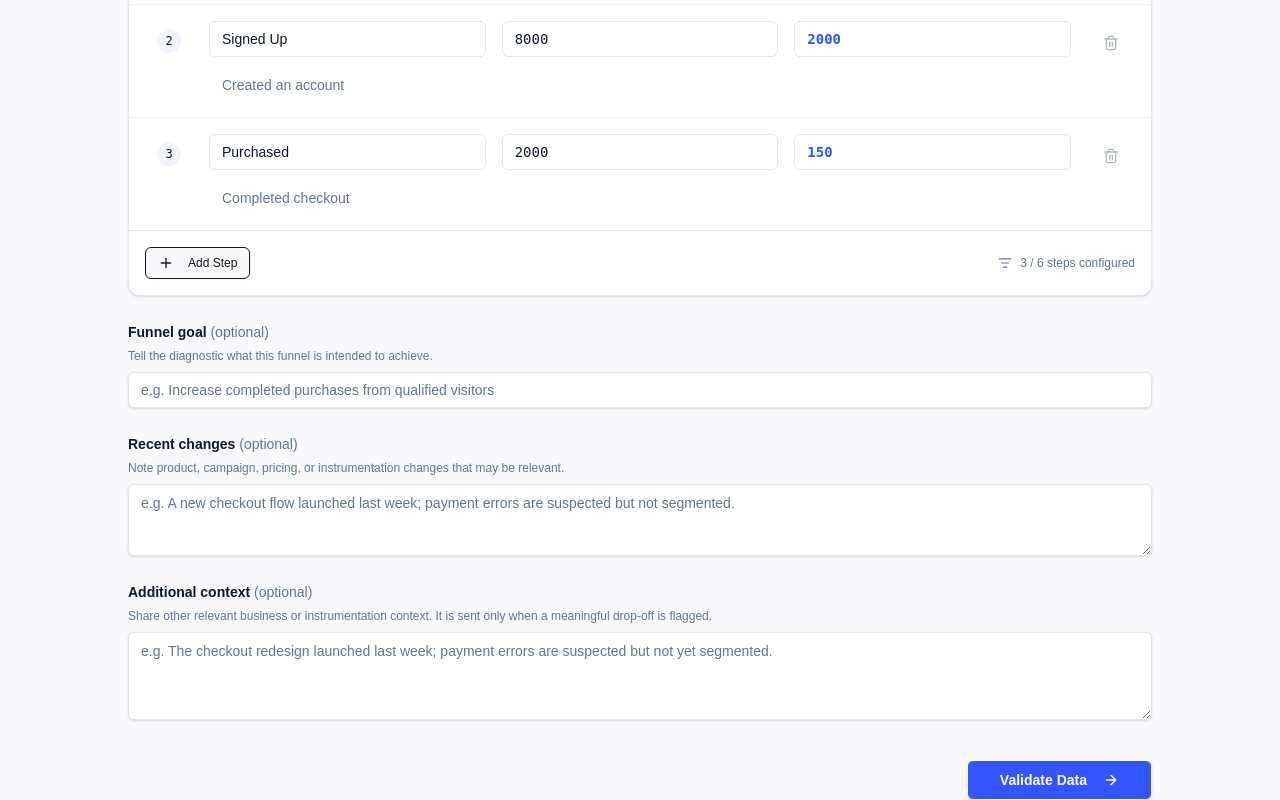
Scenario: FunnelBuilder results › renders hypotheses, missing evidence, and recommended investigation
(page scrolled)
Click the button "Validate Data" at (1059, 780), box [967,760,1152,799]
(page scrolled)
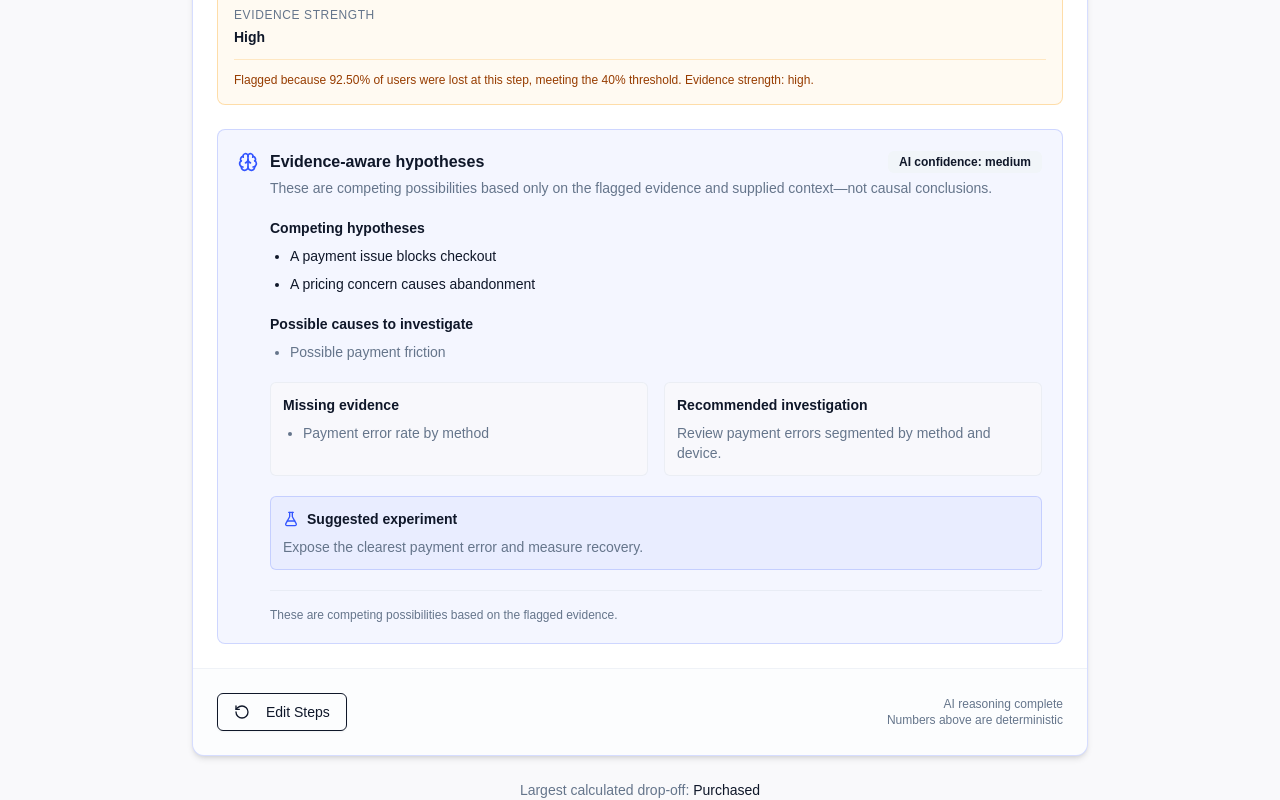
expect the heading "Evidence-aware hypotheses" is shown: met, box [270,150,484,174]
expect the list item "A payment issue blocks checkout" is shown: met, box [290,248,496,264]
expect the list item "Payment error rate by method" is shown: met, box [303,425,489,441]
